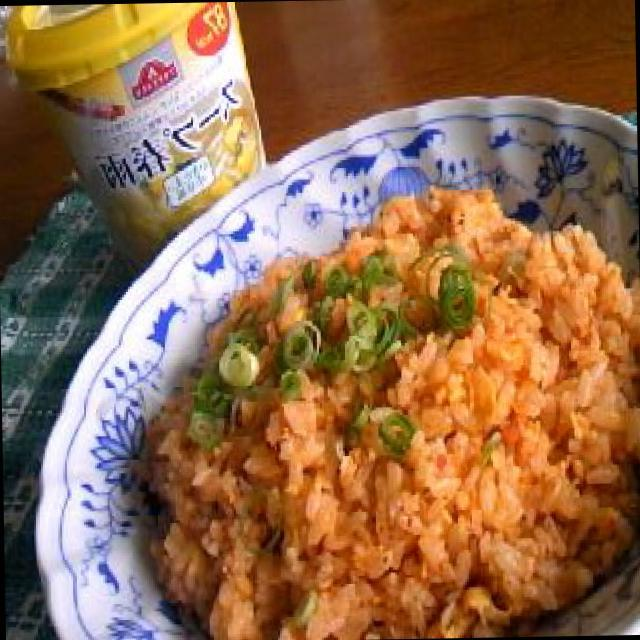Rice: (145, 172, 640, 640)
